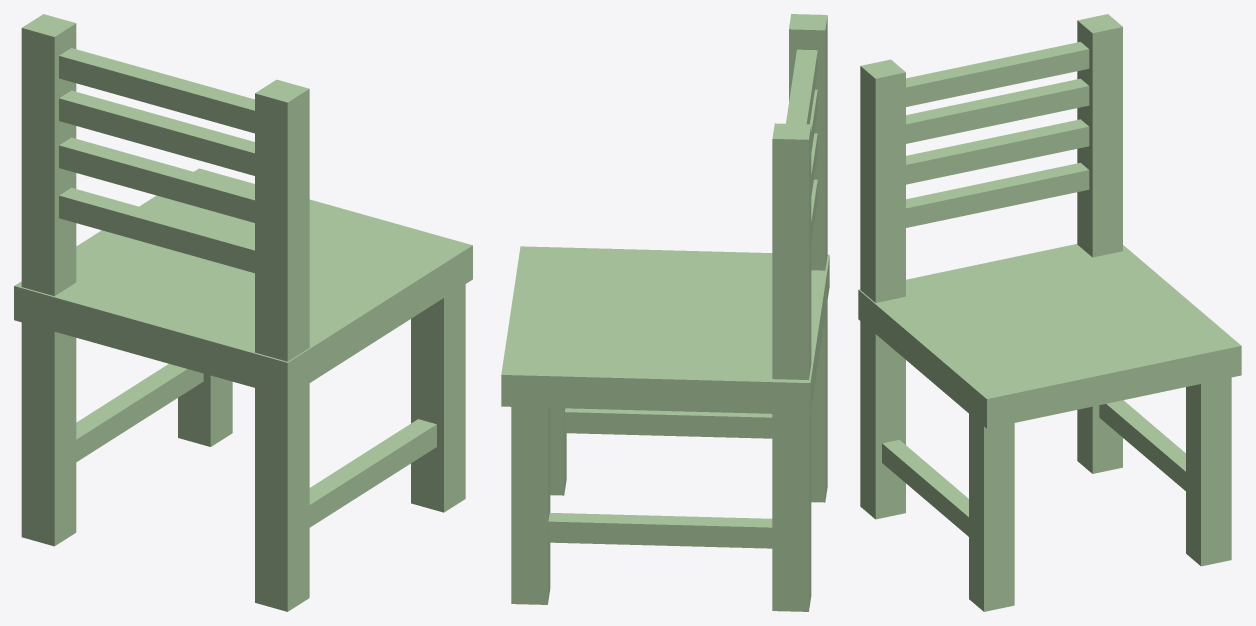
The model's file is chair-transformed.glb.
3 renders of one model, left to right at view 1: azimuth 30°, elevation 25°; view 2: azimuth 150°, elevation 25°; view 3: azimuth 270°, elevation 25°, orthographic. The views are drawn at different scales.
Parts seen in each view (by area): view 1: chair; view 2: chair; view 3: chair.
Boxes of the visible parts, x1,y1,x2,y2 form: chair: (14,14,472,611); chair: (501,14,829,611); chair: (858,14,1241,611).
Bounding box in the file's own units: 0.9438 × 1.19 × 0.9384.
